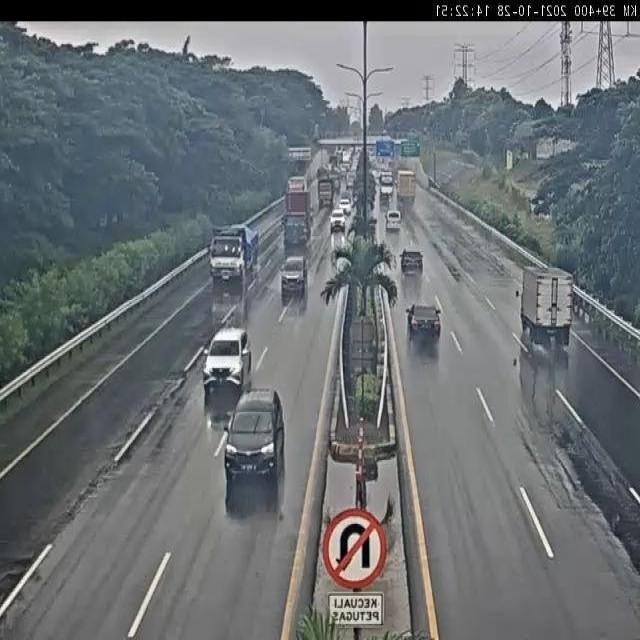Bus: (380, 185, 393, 206)
Car: (224, 387, 287, 512), (203, 324, 253, 404), (406, 303, 442, 342), (280, 255, 308, 298), (400, 249, 424, 274), (330, 208, 346, 232), (339, 197, 352, 216)
Truck: (519, 262, 574, 346), (208, 224, 258, 284), (284, 178, 312, 246), (396, 168, 417, 207), (316, 170, 335, 210)
Van: (386, 209, 402, 231)
